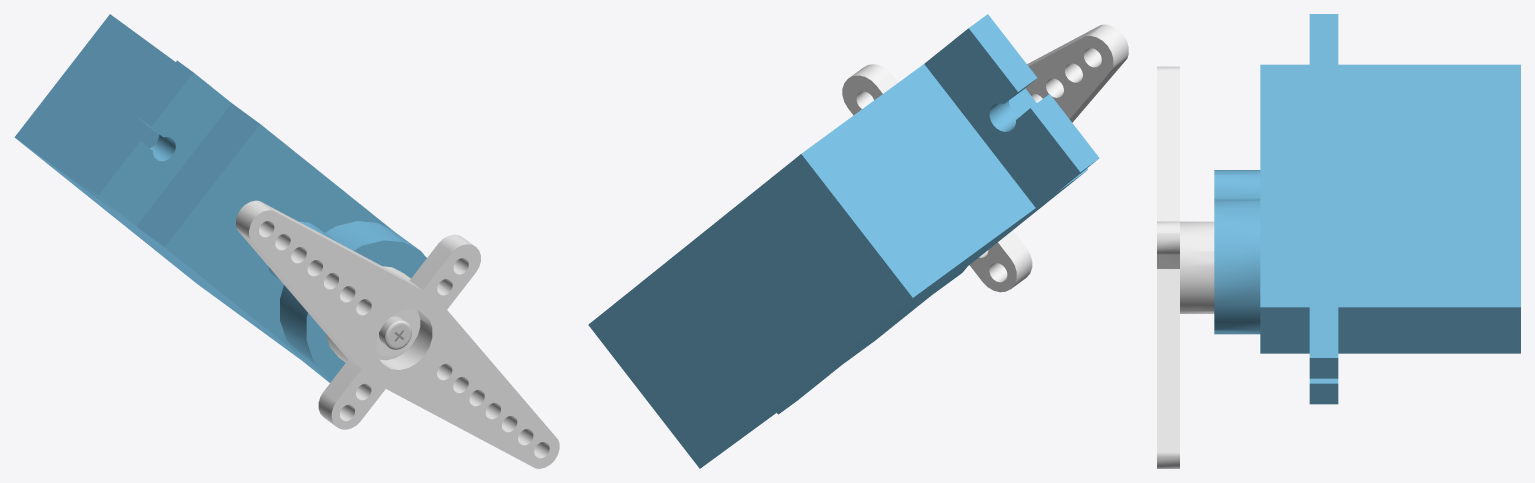
File: servo_motor.glb
3 renders of one model, left to right at view 1: azimuth 30°, elevation 25°; view 2: azimuth 150°, elevation 25°; view 3: azimuth 270°, elevation 25°, orthographic. The views are drawn at different scales.
Visible parts, largest first — view 1: Object_5, Object_3, Object_2, Object_4; view 2: Object_5, Object_3; view 3: Object_5, Object_3.
Boxes of the visible parts, x1,y1,x2,y2 form: Object_5: (14,14,426,382); Object_3: (236,200,559,468); Object_2: (379,316,411,349); Object_4: (376,309,420,356); Object_5: (588,14,1099,468); Object_3: (842,24,1128,292); Object_5: (1214,14,1520,404); Object_3: (1157,66,1214,468).
Bounding box in the file's own units: 32.6 × 32.95 × 31.7.
